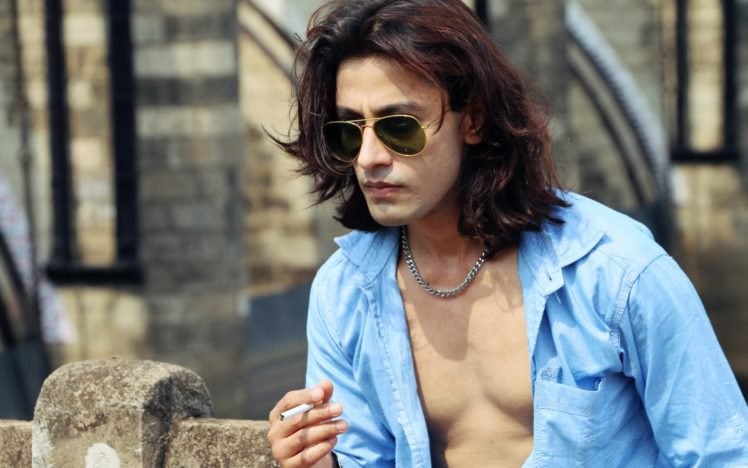noMask: (288, 30, 481, 236)
